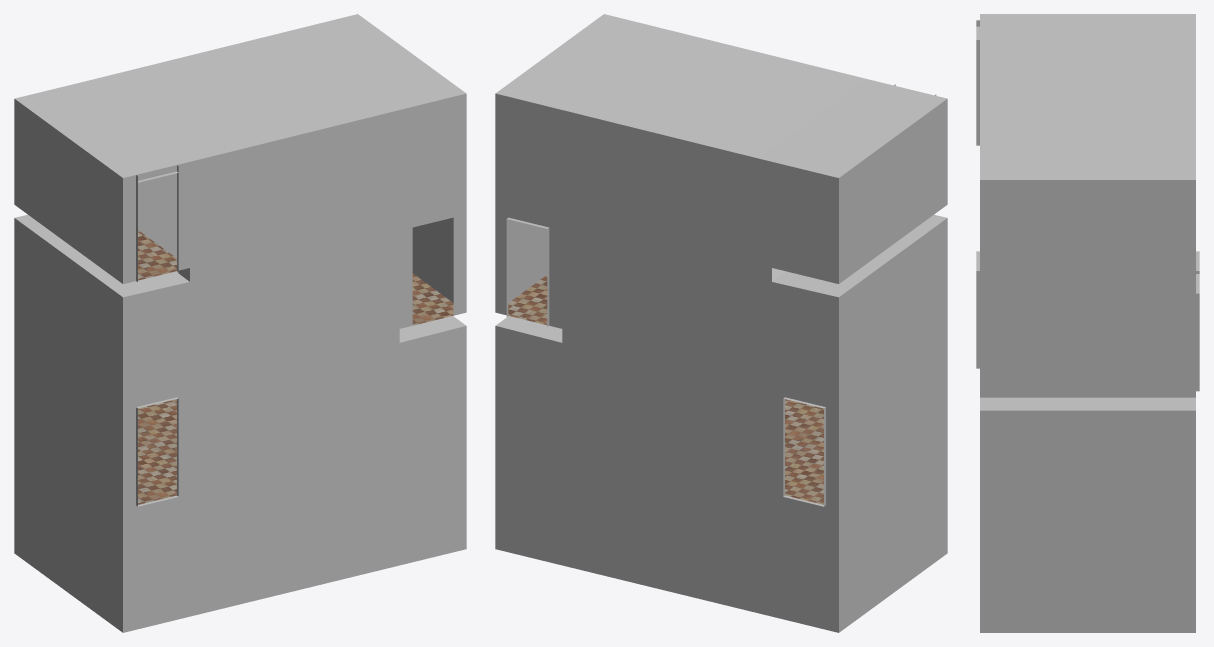
Rendered from case_room_set.FBX.
3 views of the same model, side by side, from view 1: azimuth 30°, elevation 25°; view 2: azimuth 150°, elevation 25°; view 3: azimuth 270°, elevation 25° (orthographic).
Visible parts, largest first — view 1: hole_case_room_low, mid_case_room_low, end_case_room_low, first_case_room_low, roof_case_room, end_case_room_floor, mid_case_room_floor, start_case_room_floor; view 2: hole_case_room_low, mid_case_room_low, first_case_room_low, end_case_room_low, roof_case_room, end_case_room_floor, mid_case_room_floor; view 3: roof_case_room, hole_case_room_low, end_case_room_low, mid_case_room_low, first_case_room_low.
Boxes of the visible parts, x1,y1,x2,y2 form: hole_case_room_low: [14, 425, 466, 632]; mid_case_room_low: [14, 173, 466, 396]; end_case_room_low: [14, 316, 466, 508]; first_case_room_low: [14, 93, 466, 283]; roof_case_room: [15, 14, 466, 177]; end_case_room_floor: [138, 399, 176, 504]; mid_case_room_floor: [412, 273, 453, 325]; start_case_room_floor: [138, 230, 176, 280]; hole_case_room_low: [495, 425, 947, 632]; mid_case_room_low: [495, 200, 947, 396]; first_case_room_low: [495, 84, 947, 283]; end_case_room_low: [495, 317, 947, 508]; roof_case_room: [495, 14, 946, 177]; end_case_room_floor: [785, 399, 823, 504]; mid_case_room_floor: [508, 275, 547, 324]; roof_case_room: [980, 14, 1195, 179]; hole_case_room_low: [980, 509, 1195, 632]; end_case_room_low: [976, 251, 1199, 509]; mid_case_room_low: [980, 274, 1199, 397]; first_case_room_low: [976, 20, 1195, 286].
Bounding box in the file's own units: 288 × 366 × 163.
